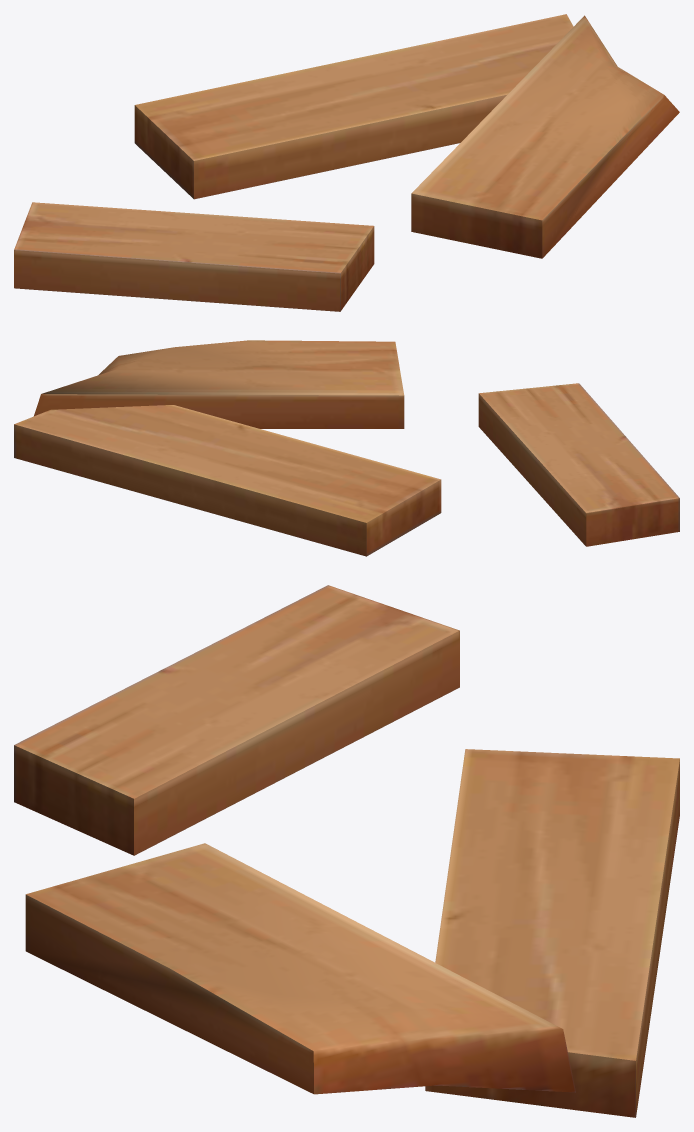
The model's file is ZhuCheng_MuBan_01.fbx.
3 renders of one model, top to bottom at view 1: azimuth 30°, elevation 25°; view 2: azimuth 150°, elevation 25°; view 3: azimuth 270°, elevation 25°, orthographic. The views are drawn at different scales.
Visible parts, largest first — view 1: ZhuCheng_MuBan_01; view 2: ZhuCheng_MuBan_01; view 3: ZhuCheng_MuBan_01.
Boxes of the visible parts, x1,y1,x2,y2 form: ZhuCheng_MuBan_01: (14, 14, 679, 311); ZhuCheng_MuBan_01: (14, 340, 679, 556); ZhuCheng_MuBan_01: (14, 585, 679, 1117).
Bounding box in the file's own units: 1.63 × 0.1334 × 0.9575.
